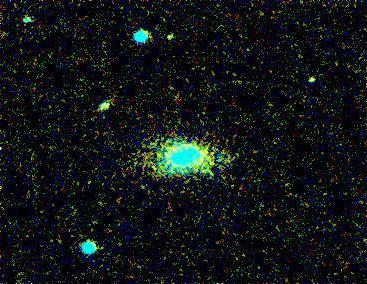star: (298, 65, 328, 95)
